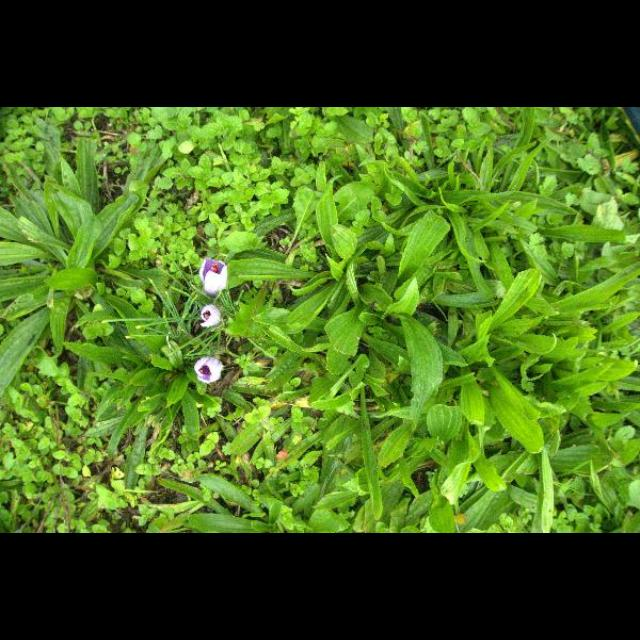flower: (200, 258, 228, 296), (195, 357, 221, 383), (200, 304, 220, 328)
